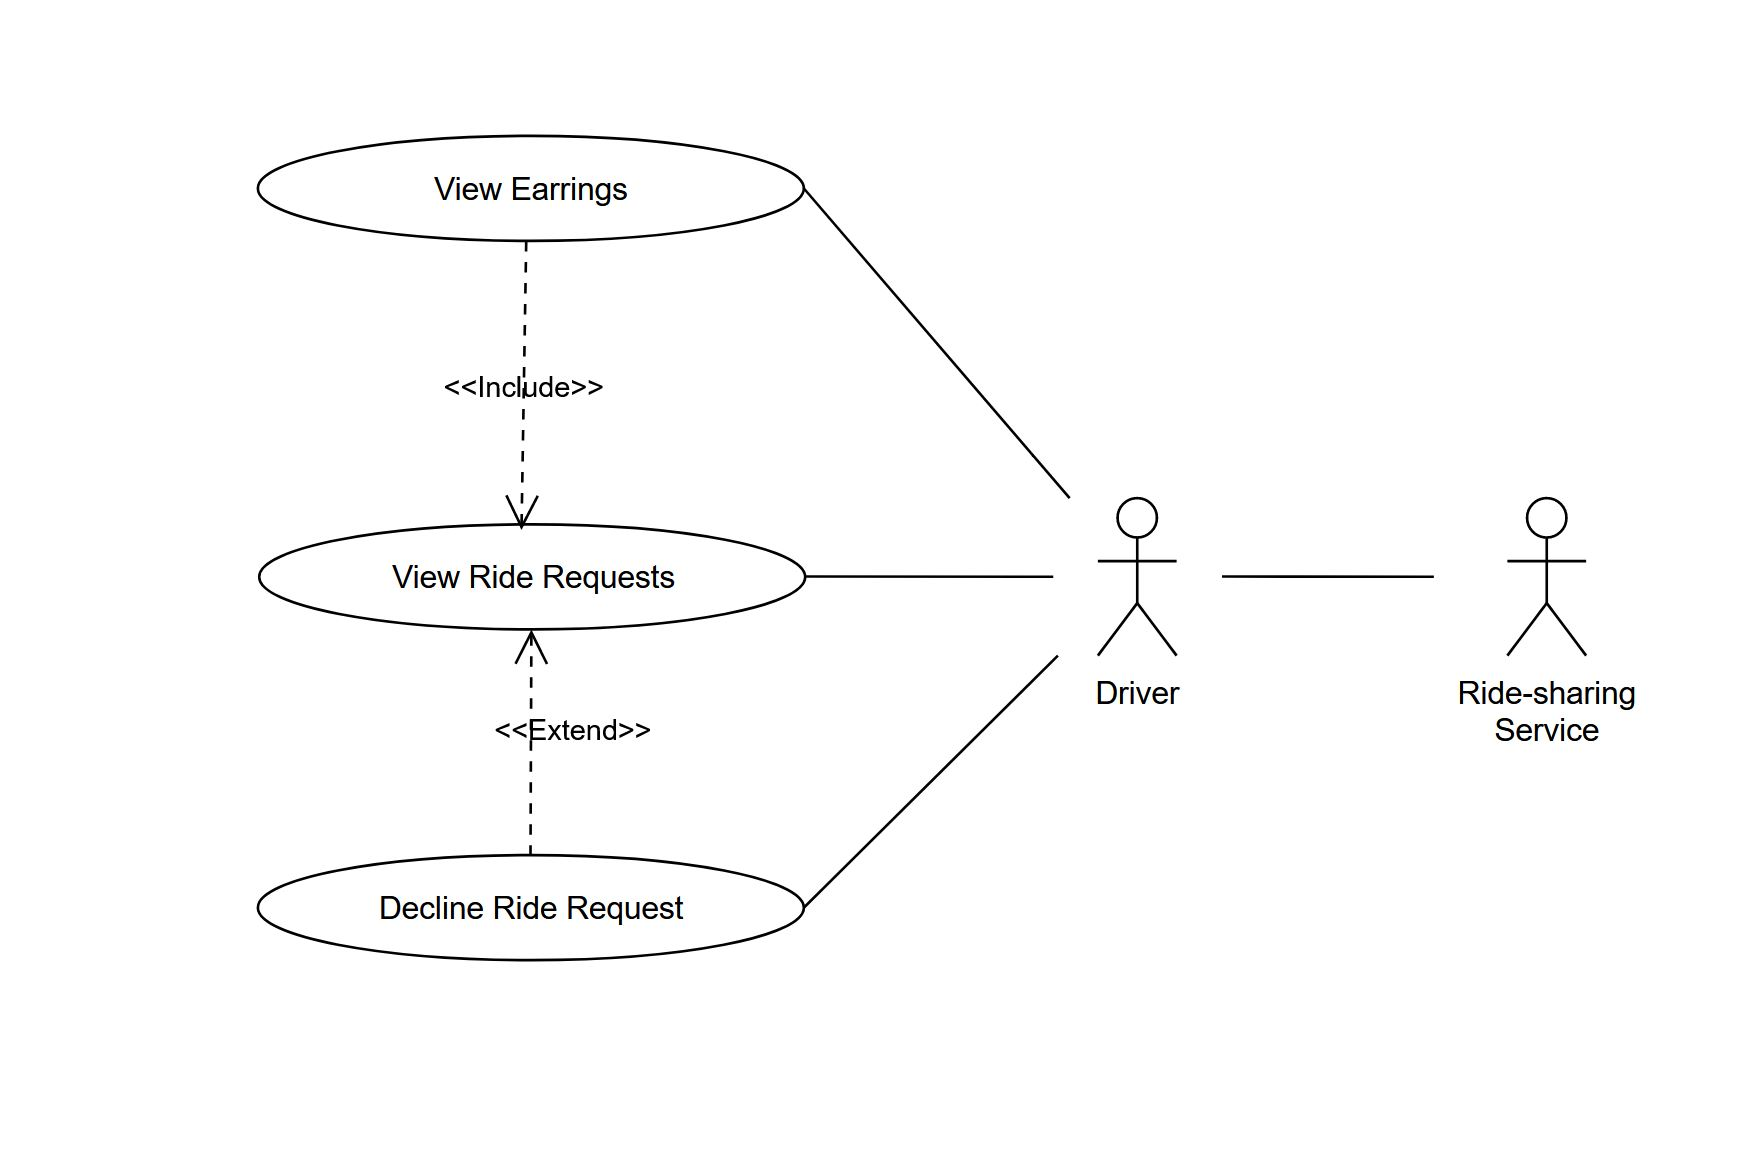actor: (1097, 492, 1187, 666), (1503, 496, 1592, 664)
association: (805, 184, 1071, 501), (802, 650, 1065, 906), (805, 551, 1060, 600), (505, 240, 548, 522), (1220, 552, 1441, 605), (512, 631, 550, 856)
text: (1458, 675, 1644, 748), (373, 890, 691, 927), (386, 560, 684, 597), (426, 168, 633, 217), (441, 367, 607, 407), (494, 712, 659, 747), (1085, 680, 1190, 710)
use_case: (255, 849, 808, 965), (255, 132, 805, 246), (256, 522, 808, 635)
